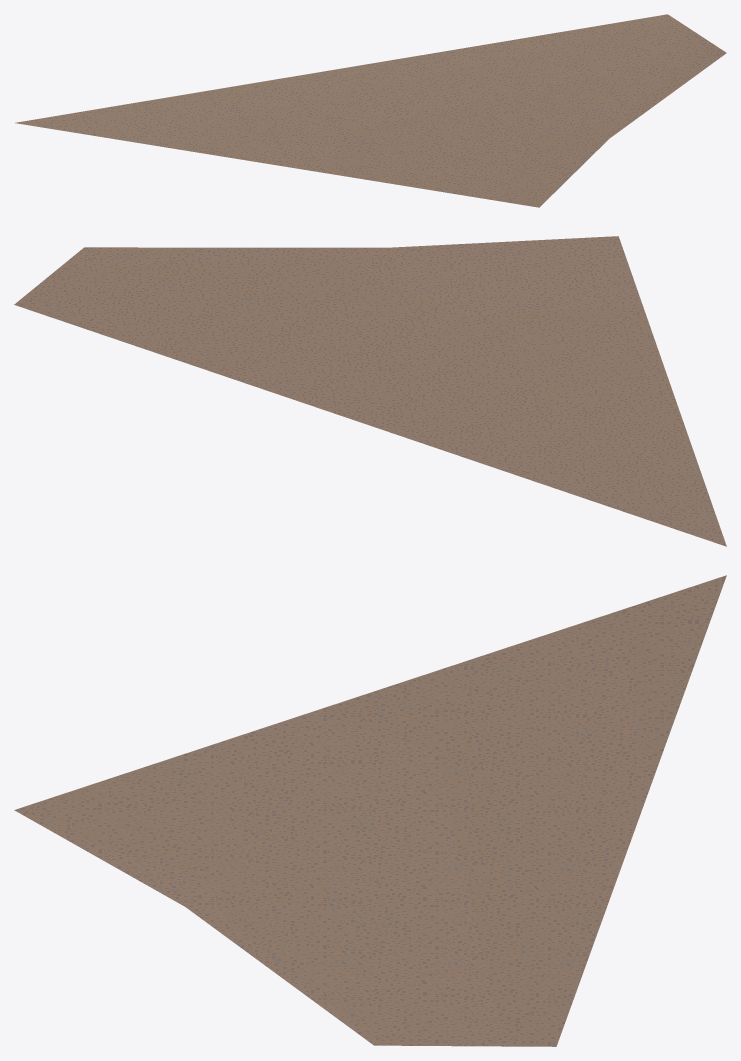
The model's file is kd_stage_135b75_0_9.glb.
3 renders of one model, top to bottom at view 1: azimuth 30°, elevation 25°; view 2: azimuth 150°, elevation 25°; view 3: azimuth 270°, elevation 25°, orthographic. The views are drawn at different scales.
Parts seen in each view (by area): view 1: kd_stage_135b75_0_9; view 2: kd_stage_135b75_0_9; view 3: kd_stage_135b75_0_9.
Boxes of the visible parts, x1,y1,x2,y2 form: kd_stage_135b75_0_9: (15, 14, 726, 207); kd_stage_135b75_0_9: (14, 236, 726, 546); kd_stage_135b75_0_9: (14, 575, 726, 1046).
Bounding box in the file's own units: 44.17 × 0.1956 × 28.02.
Materials: 1 (1 with a texture image).
